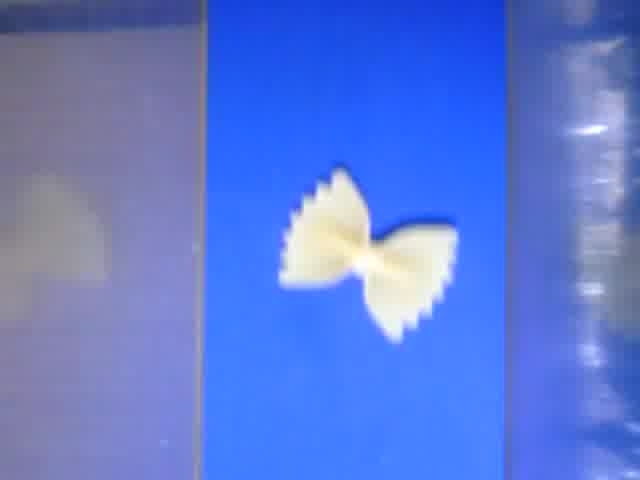farfalle: (279, 164, 461, 341)
